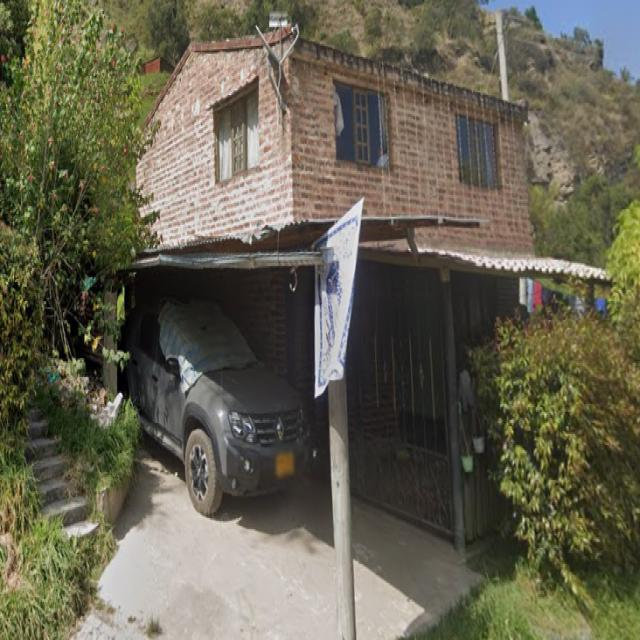Fachada: (136, 29, 604, 537)
Poste: (497, 11, 510, 100)
